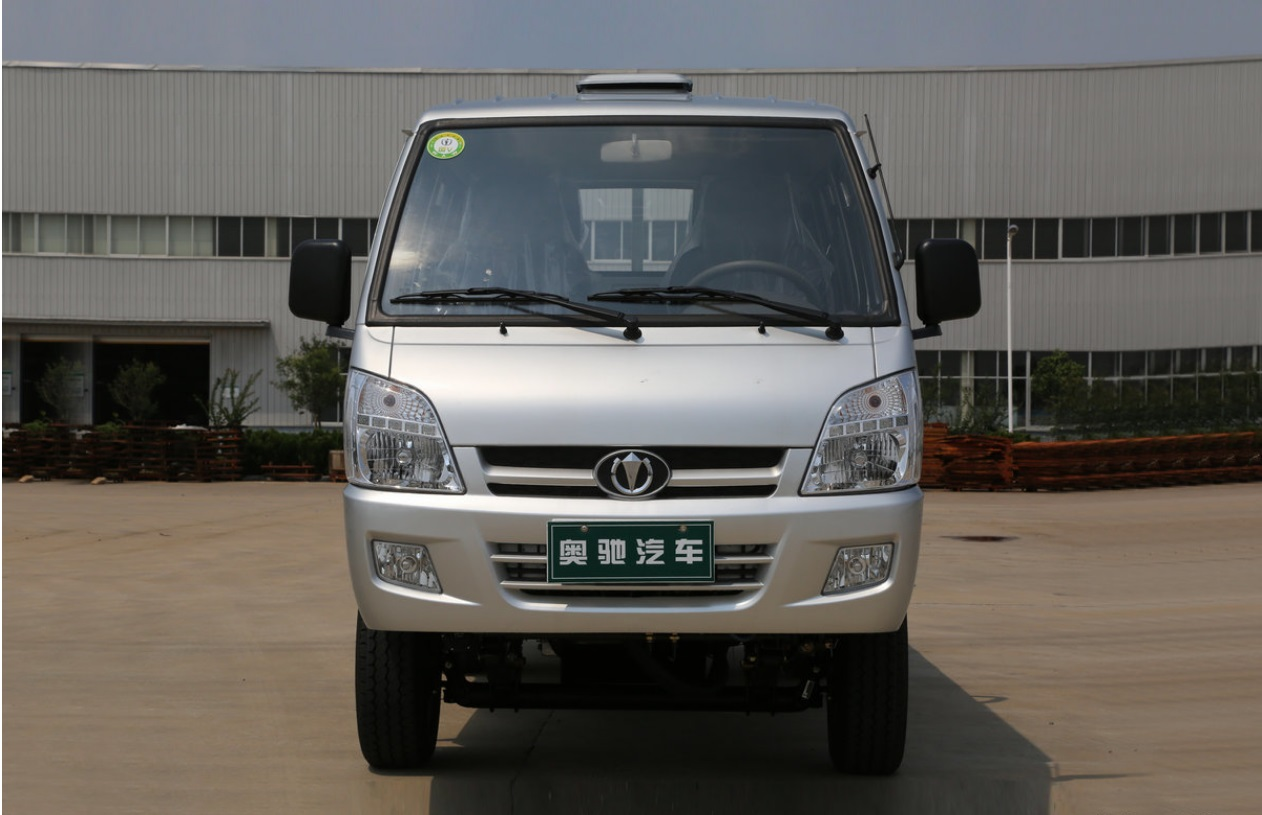truck: (286, 71, 987, 780)
